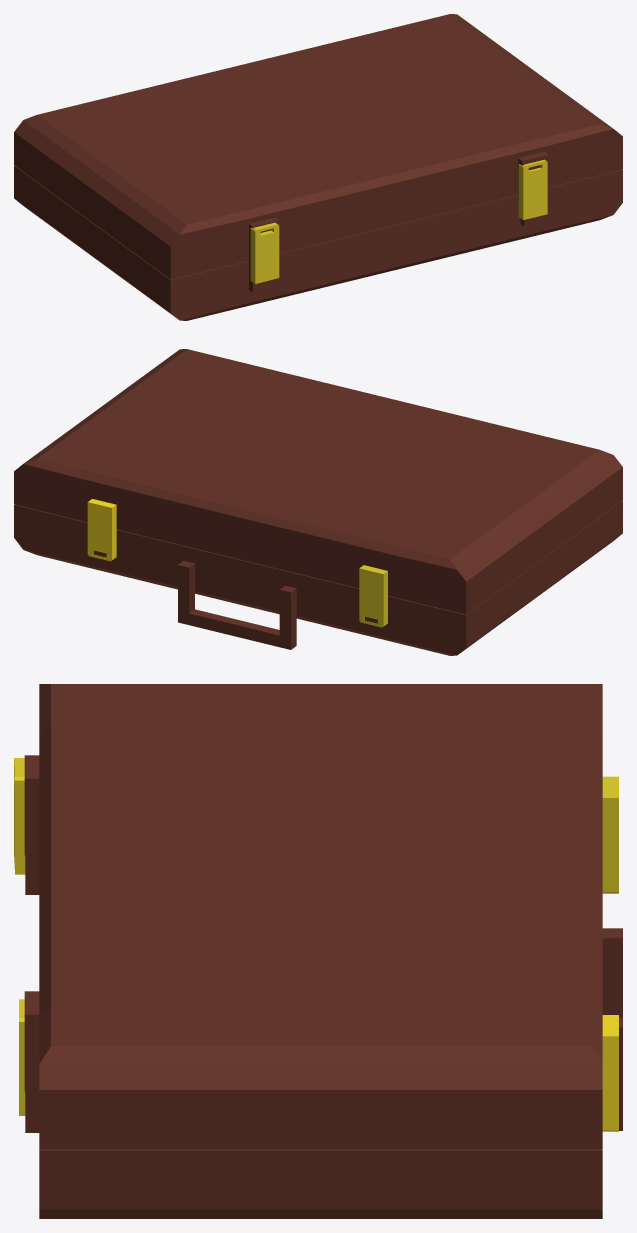
The model's file is BriefCase (1).fbx.
3 views of the same model, one above another, from view 1: azimuth 30°, elevation 25°; view 2: azimuth 150°, elevation 25°; view 3: azimuth 270°, elevation 25° (orthographic). The views are drawn at different scales.
Visible parts, largest first — view 1: Cube.001, Cube, Cube.004, Cube.005; view 2: Cube.001, Cube, Cube.002, Cube.003; view 3: Cube.001, Cube, Cube.003, Cube.002, Cube.004, Cube.005.
Boxes of the visible parts, x1,y1,x2,y2 form: Cube.001: (14,14,622,279); Cube: (14,165,622,320); Cube.004: (250,222,279,283); Cube.005: (518,159,547,219); Cube.001: (14,349,622,614); Cube: (14,500,622,655); Cube.002: (87,499,116,561); Cube.003: (359,565,387,627); Cube.001: (24,684,602,1149); Cube: (25,855,622,1218); Cube.003: (602,776,618,893); Cube.002: (602,1015,618,1131); Cube.004: (14,758,25,874); Cube.005: (19,999,25,1115).
Size of the model in its own units: 200 by 50.85 by 130.
